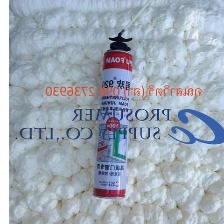aerosol_cans: (89, 27, 138, 204)
